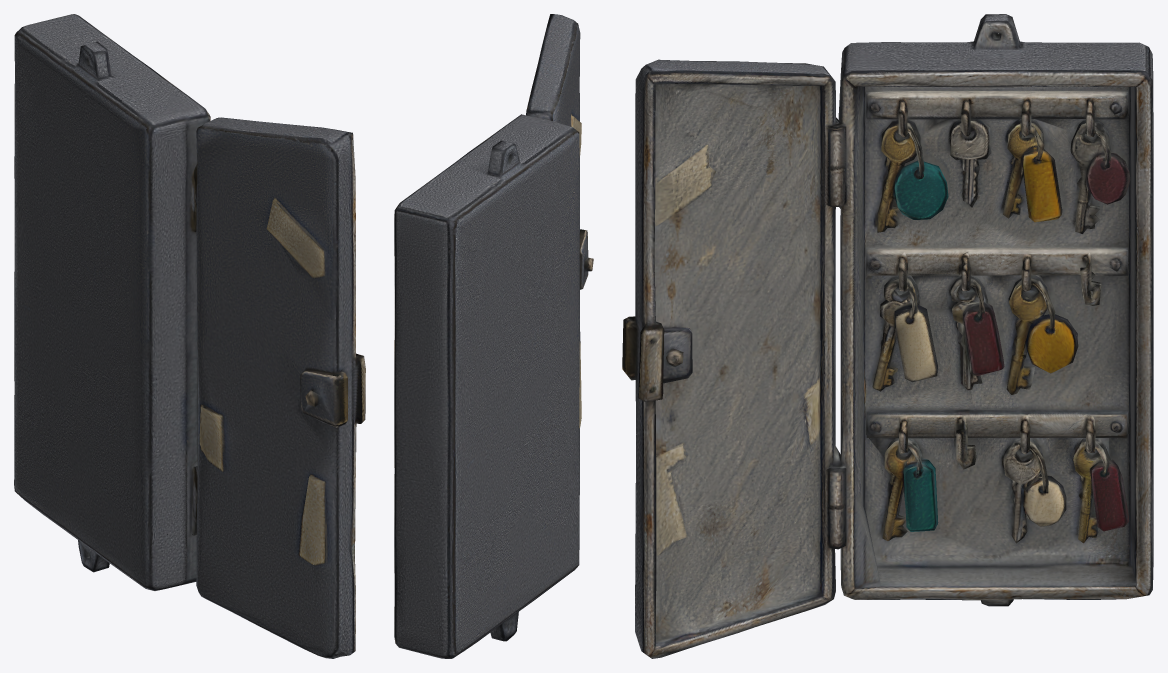
The model's file is OfficeKeybox.fbx.
The picture shows the model from 3 angles, left to right: view 1: azimuth 30°, elevation 25°; view 2: azimuth 150°, elevation 25°; view 3: azimuth 270°, elevation 25°; orthographic projection. The views are drawn at different scales.
Parts seen in each view (by area): view 1: tripo_node_4ed5e336-3ede-4132-b32d-66e8d65ec3aa; view 2: tripo_node_4ed5e336-3ede-4132-b32d-66e8d65ec3aa; view 3: tripo_node_4ed5e336-3ede-4132-b32d-66e8d65ec3aa.
Boxes of the visible parts, x1,y1,x2,y2 form: tripo_node_4ed5e336-3ede-4132-b32d-66e8d65ec3aa: (14,14,365,658); tripo_node_4ed5e336-3ede-4132-b32d-66e8d65ec3aa: (394,14,593,658); tripo_node_4ed5e336-3ede-4132-b32d-66e8d65ec3aa: (622,14,1153,658).
Bounding box in the file's own units: 26.19 × 100 × 81.86.
Materials: 1 (1 with a texture image).
